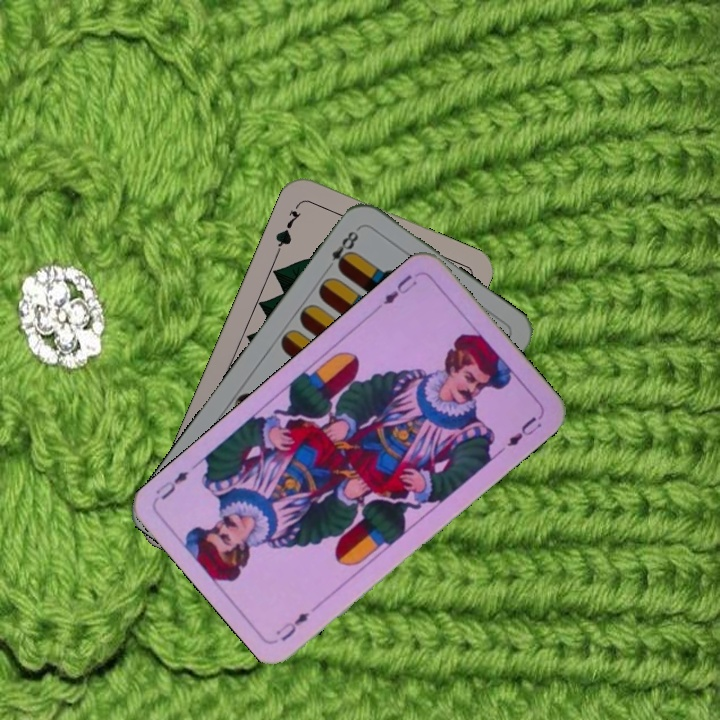E8: (321, 224, 363, 274)
EU: (378, 270, 420, 308), (271, 607, 313, 644)
G7: (271, 206, 304, 255)
